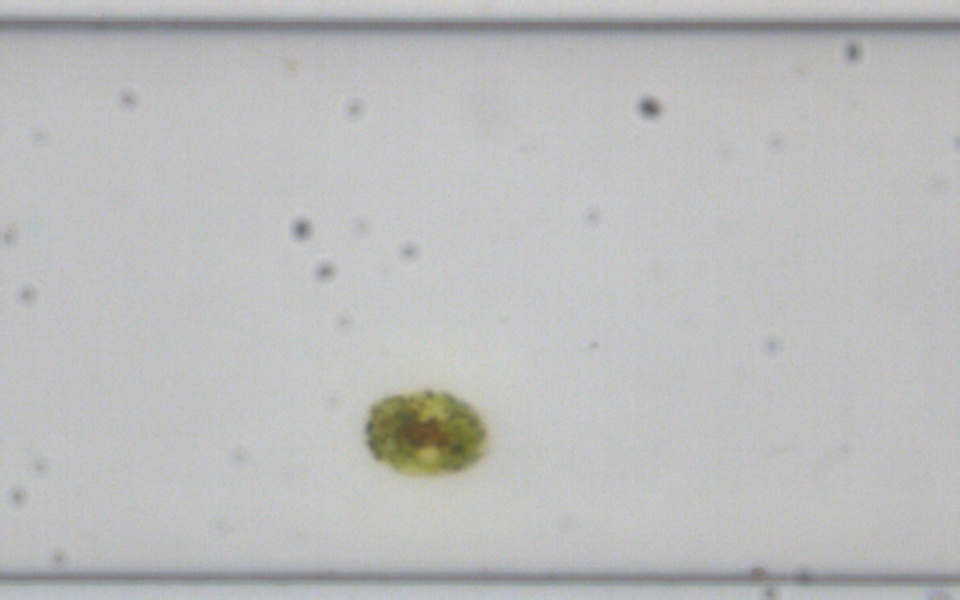Haematococcus: (359, 382, 488, 486)
